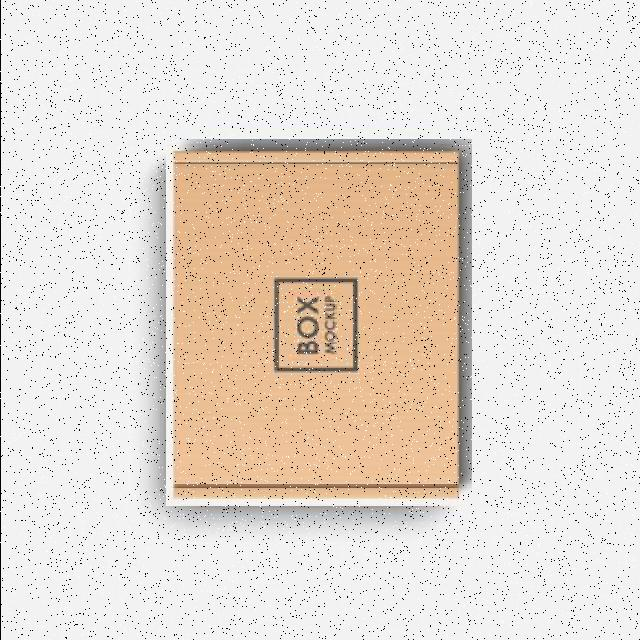normal: (164, 139, 470, 506)
